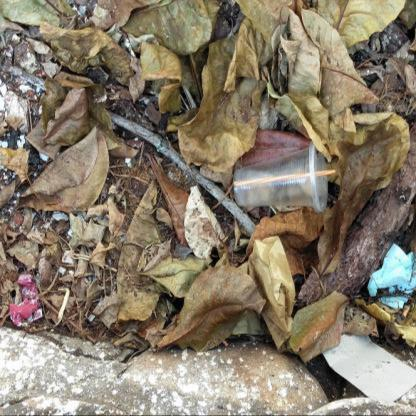Carton: (322, 334, 416, 402)
Cigarette: (400, 305, 410, 319)
Cup: (234, 141, 328, 213)
Lid: (309, 141, 328, 213)
Other litter: (239, 236, 297, 348)
Paper: (368, 244, 416, 310), (10, 274, 43, 328)
Straw: (234, 169, 336, 187)
